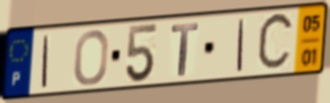5: (123, 22, 160, 85)
C: (255, 9, 296, 76)
I: (235, 17, 247, 73), (40, 34, 52, 89)
O: (72, 28, 110, 88)
T: (169, 21, 200, 78)
